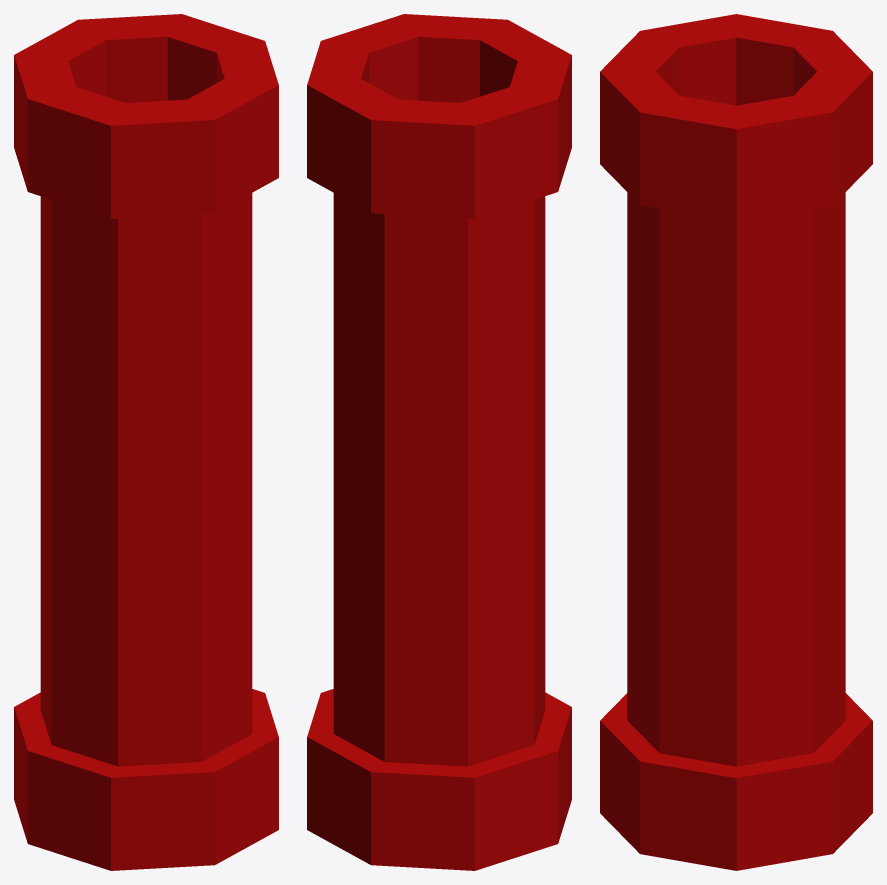
The model's file is reactor.glb.
3 renders of one model, left to right at view 1: azimuth 30°, elevation 25°; view 2: azimuth 150°, elevation 25°; view 3: azimuth 270°, elevation 25°, orthographic.
Visible parts, largest first — view 1: pipe; view 2: pipe; view 3: pipe.
Part boxes in pixels (x1,y1,x2,y2): pipe: (14, 14, 278, 870); pipe: (307, 14, 571, 870); pipe: (600, 14, 872, 870).
Size of the model in its own units: 1 by 3 by 1.
